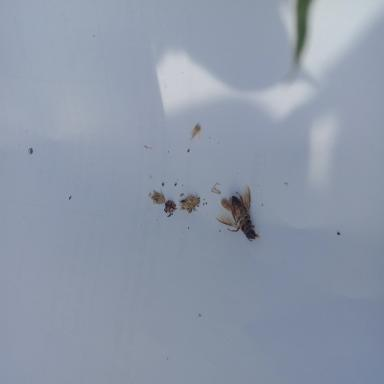pbw: (151, 188, 164, 204), (180, 201, 195, 214), (187, 194, 200, 204)
